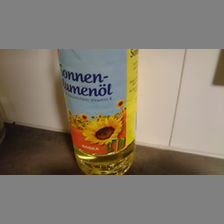oil: (57, 50, 141, 174)
